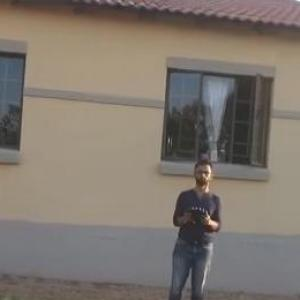follow: (162, 157, 228, 299)
